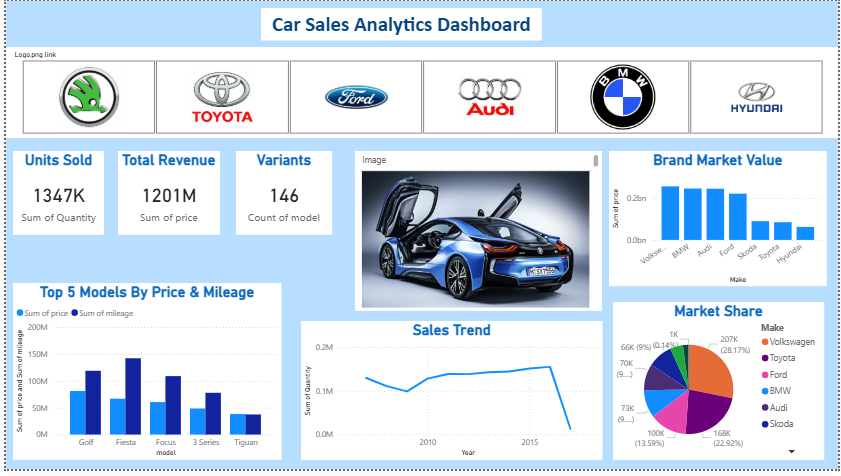

The page's visual inventory and layout, read from the dashboard file:
{"tool":"powerbi","page":{"name":"Page 1","canvas":[1280,720],"ordinal":0},"visuals":[{"type":"card","title":"Units Sold","fields":{"Values":["Sum(Norway_car_sales_by_make.Quantity)"]},"box":[10.2,231.2,140.5,128.8],"z":0},{"type":"slicer","fields":{"Values":["Brands_Master Data.Logo.png link"]},"box":[0,70.2,1280.5,140.5],"z":1000},{"type":"card","title":"Total Revenue","fields":{"Values":["Sum(cars_dataset.price)"]},"box":[172.7,231.2,156.6,128.8],"z":2000},{"type":"card","title":"Variants","fields":{"Values":["Count(cars_dataset.model)"]},"box":[354.1,231.2,147.8,128.8],"z":3000},{"type":"columnChart","title":"Brand Market Value","fields":{"Category":["cars_dataset.Make"],"Y":["Sum(cars_dataset.price)"]},"box":[927.8,231.2,335.1,207.8],"z":4000},{"type":"lineClusteredColumnComboChart","title":"Top 5 Models By Price & Mileage","fields":{"Category":["cars_dataset.model"],"Y":["Sum(cars_dataset.price)","Sum(cars_dataset.mileage)"]},"box":[10.2,433.2,412.7,272.2],"z":5000},{"type":"pieChart","title":"Market Share","fields":{"Category":["Norway_car_sales_by_make.Make"],"Y":["Sum(Norway_car_sales_by_make.Quantity)"]},"box":[933.7,462.4,324.9,242.9],"z":6000},{"type":"lineChart","title":"Sales Trend","fields":{"Category":["Norway_car_sales_by_make.Year"],"Y":["Sum(Norway_car_sales_by_make.Quantity)"]},"box":[453.7,491.7,463.9,213.7],"z":7000},{"type":"tableEx","fields":{"Values":["Brands_Master Data.Image"]},"box":[537.1,231.2,380.5,245.9],"z":8000},{"type":"textbox","box":[392.2,10.2,431.7,49.8],"z":8001}]}

Visuals, with their boxes in screenshot pixels (x1, y1, x2, y2), scaled from the page's 1280x720 canvas onto the 841x476 screenshot:
"Units Sold" card: [7, 153, 99, 238]
slicer - Brands_Master Data.Logo.png link: [0, 46, 840, 139]
"Total Revenue" card: [113, 153, 216, 238]
"Variants" card: [233, 153, 330, 238]
"Brand Market Value" columnChart: [610, 153, 830, 290]
"Top 5 Models By Price & Mileage" lineClusteredColumnComboChart: [7, 286, 278, 466]
"Market Share" pieChart: [613, 306, 827, 466]
"Sales Trend" lineChart: [298, 325, 603, 466]
tableEx - Brands_Master Data.Image: [353, 153, 603, 315]
textbox: [258, 7, 541, 40]
